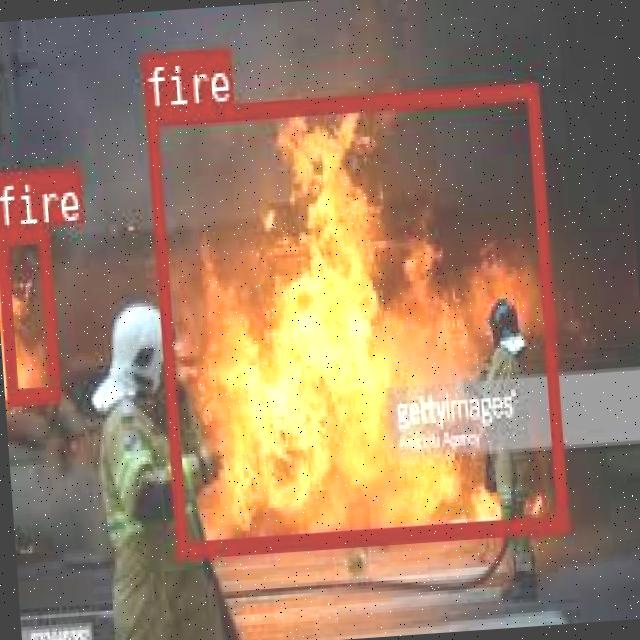fire: (144, 80, 566, 556), (0, 225, 58, 402)
